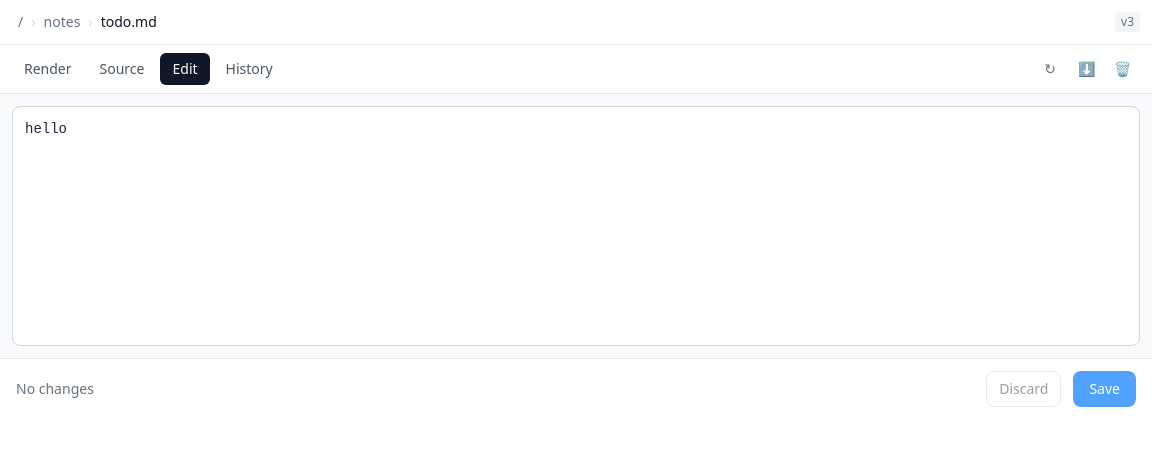
it: VfsFilePanel › editing › shows a failed save inline and keeps the text
Replace the text in the text box named "File content" with "mine" at {"x": 576, "y": 226}, box [12,106,1140,346]
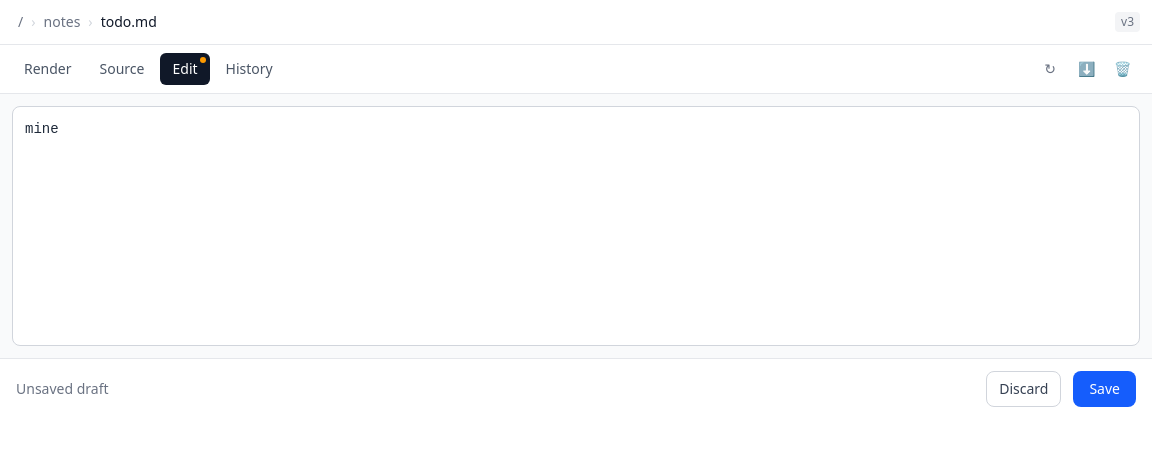
Click the button "Save" at {"x": 1105, "y": 389}, box [1073,371,1136,407]
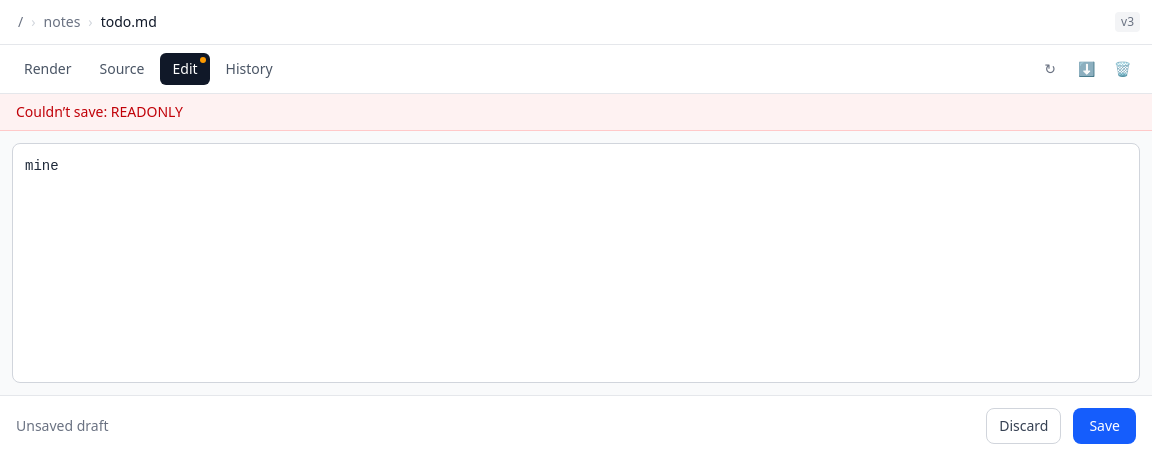
Now the message reads "Couldn’t save: READONLY", box [16,102,183,121]
